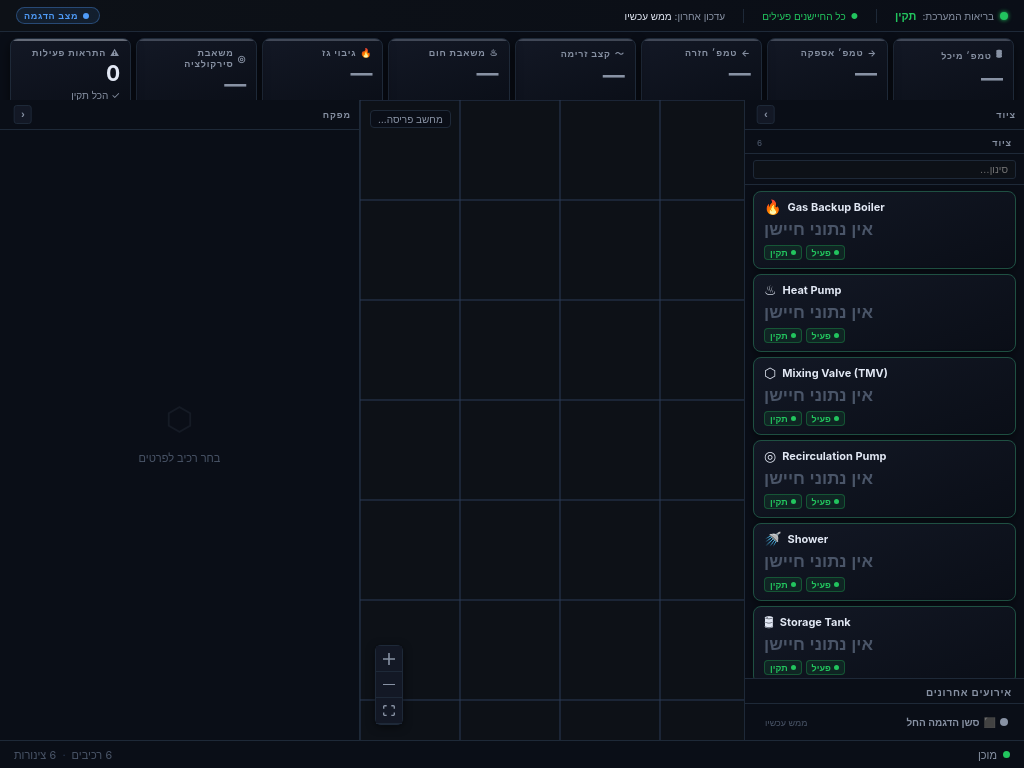
Test: MissionControlView › closes inspector and restores placeholder when inspector-close-btn is clicked
This screenshot has width=1024, height=768.
Click the list item with test id "^dashboard-item-": coordinates (884, 230) [753,191,1016,269]
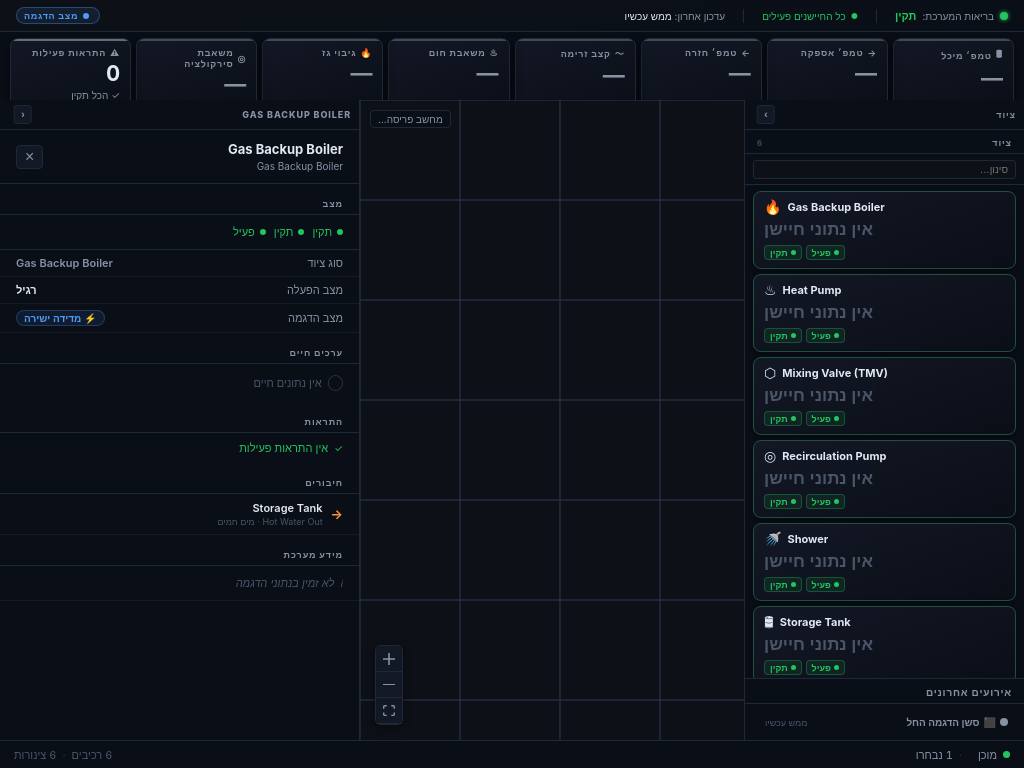
Expected: the element with test id "inspector-panel" is shown, [0,130,359,740]
Click the button with test id "inspector-close-btn": coordinates (30, 156) [16,144,43,168]
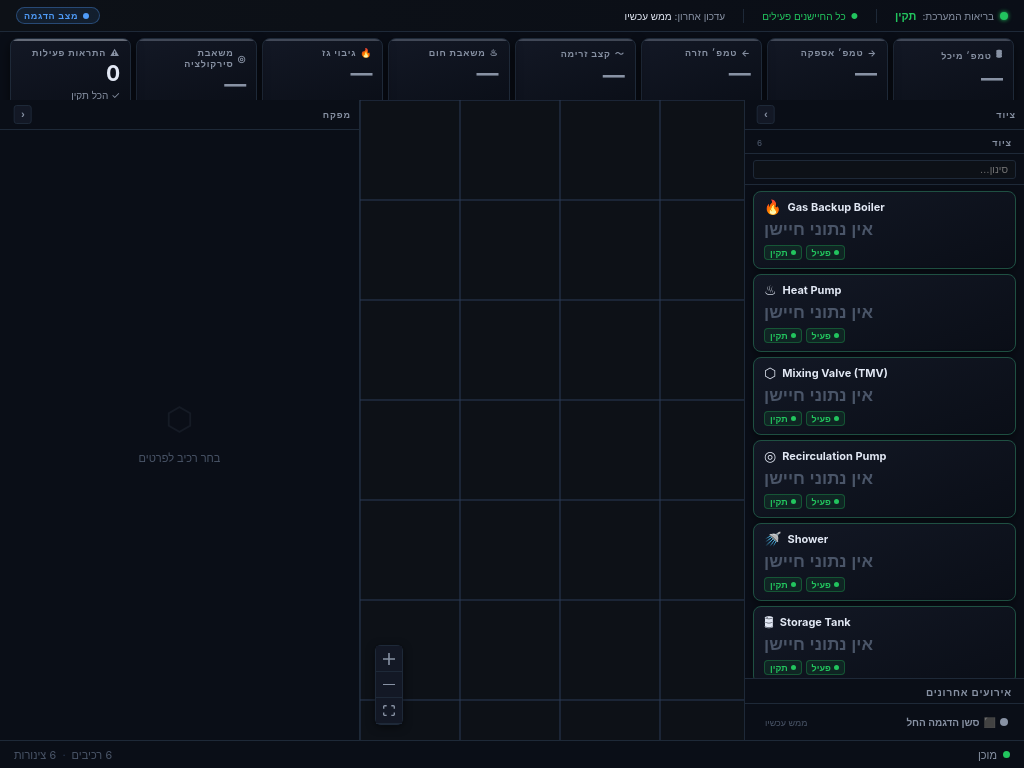
Expected: the element with test id "inspector-panel" is gone
Expected: the element with test id "inspector-placeholder" is shown, [138,399,220,465]
